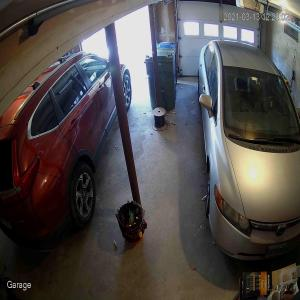garbage bin: (144, 41, 176, 112)
honda civic: (197, 39, 300, 263)
honda crv: (0, 50, 132, 253)
tool bucket: (115, 199, 148, 246)
